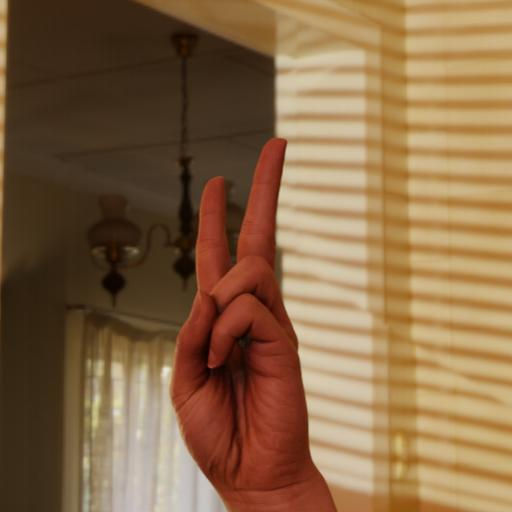V: (174, 144, 329, 508)
